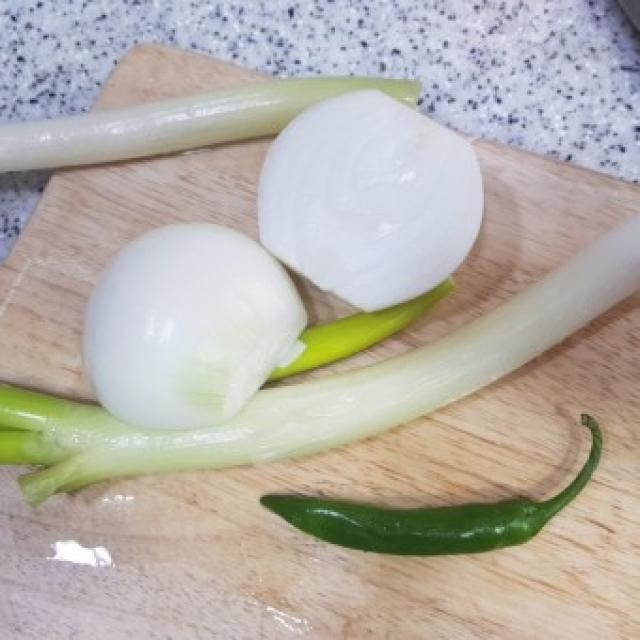onion: (268, 92, 482, 314), (82, 214, 289, 434)
